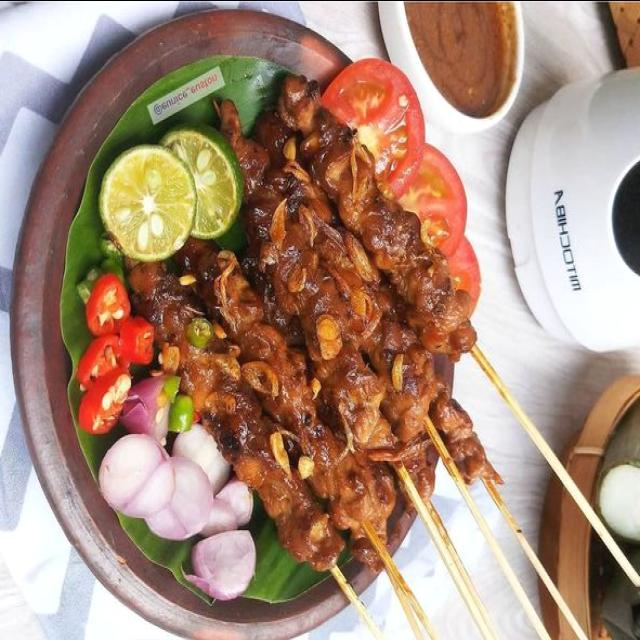sate: (97, 74, 592, 640)
